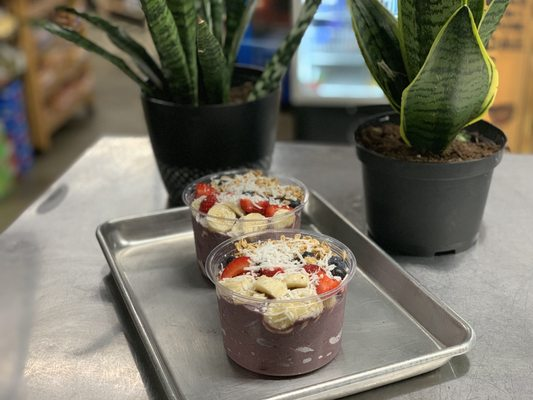sushi: (211, 231, 357, 381), (187, 171, 309, 285)
